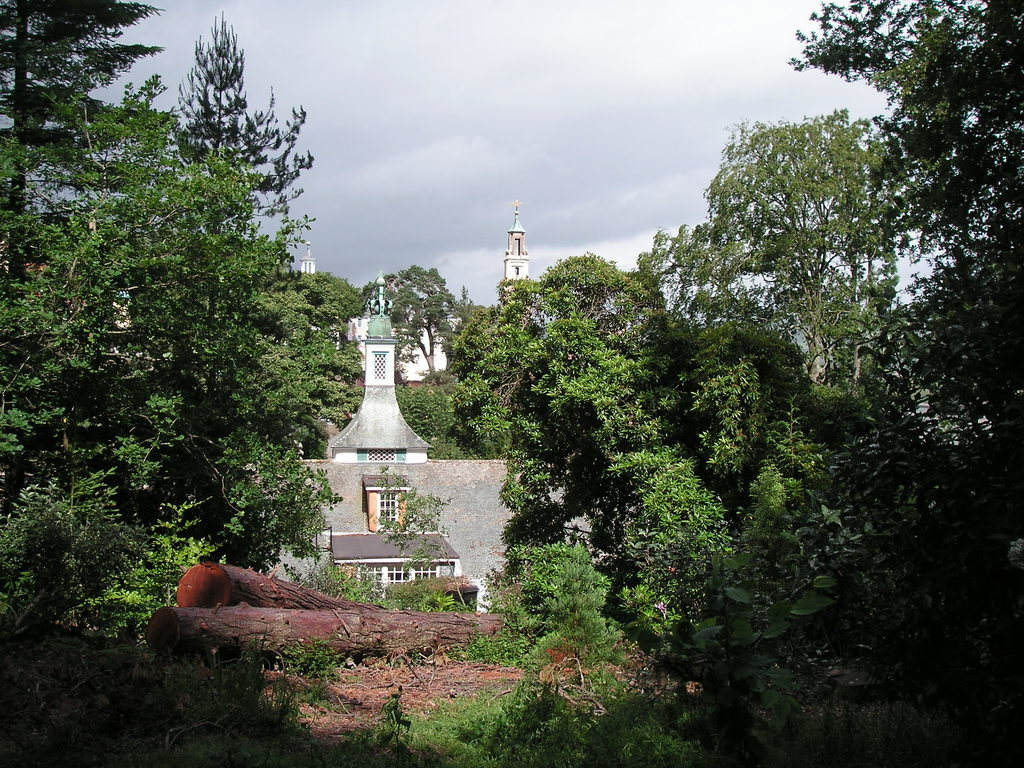Tree: (0, 0, 1020, 767), (359, 261, 458, 375)
